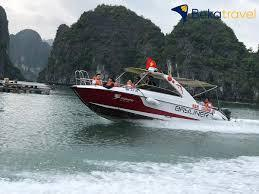Ship: (73, 68, 231, 121)
